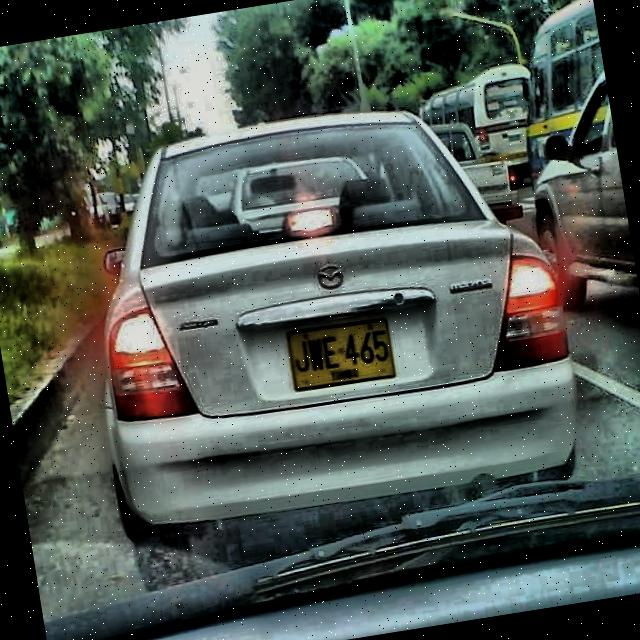4: (341, 332, 362, 367)
5: (371, 329, 391, 363)
6: (358, 329, 376, 366)
E: (322, 335, 341, 371)
J: (291, 339, 311, 373)
W: (307, 337, 326, 373)
